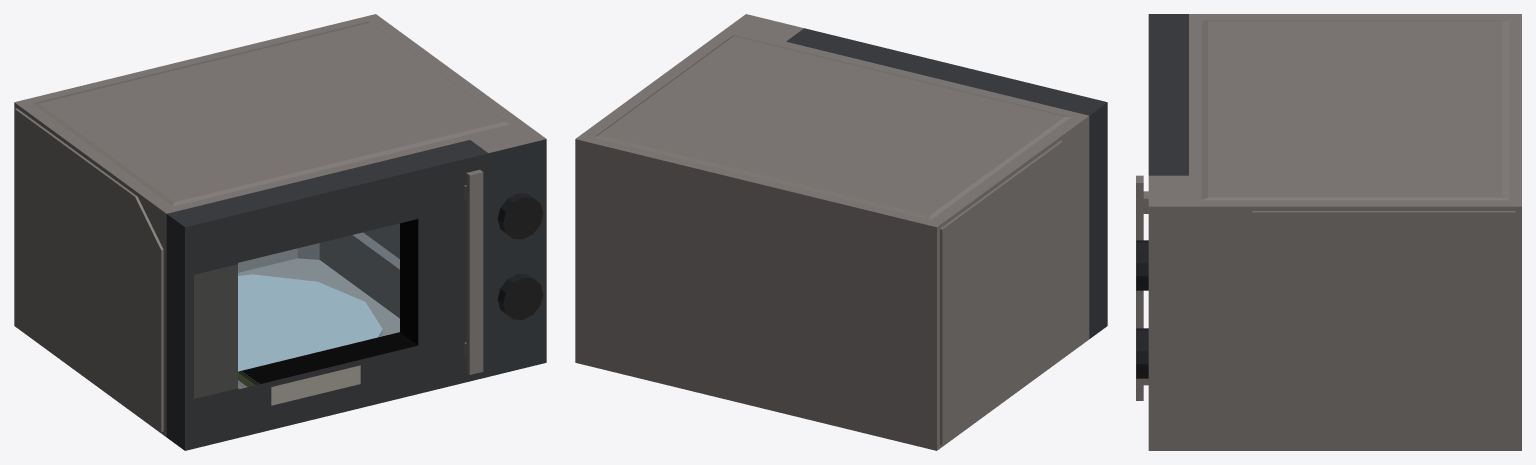
The model's file is modifiedmicrowave.fbx.
The picture shows the model from 3 angles, left to right: view 1: azimuth 30°, elevation 25°; view 2: azimuth 150°, elevation 25°; view 3: azimuth 270°, elevation 25°; orthographic projection. The views are drawn at different scales.
Parts seen in each view (by area): view 1: microwavewitchverticalhandle_01_A, Doorformicrowavewitchverticalhandle_01_A, Plateformicrowavewitchverticalhandle_01_A, Switchformicrowavewitchverticalhandle_01_A, Switchformicrowavewitchverticalhandle_02_A; view 2: microwavewitchverticalhandle_01_A, Doorformicrowavewitchverticalhandle_01_A; view 3: microwavewitchverticalhandle_01_A, Doorformicrowavewitchverticalhandle_01_A, Switchformicrowavewitchverticalhandle_01_A, Switchformicrowavewitchverticalhandle_02_A.
Boxes of the visible parts, x1,y1,x2,y2 form: microwavewitchverticalhandle_01_A: [14, 14, 546, 436]; Doorformicrowavewitchverticalhandle_01_A: [166, 140, 488, 450]; Plateformicrowavewitchverticalhandle_01_A: [238, 274, 382, 371]; Switchformicrowavewitchverticalhandle_01_A: [497, 193, 543, 239]; Switchformicrowavewitchverticalhandle_02_A: [497, 273, 543, 319]; microwavewitchverticalhandle_01_A: [575, 14, 1089, 450]; Doorformicrowavewitchverticalhandle_01_A: [786, 28, 1107, 338]; microwavewitchverticalhandle_01_A: [1148, 14, 1521, 450]; Doorformicrowavewitchverticalhandle_01_A: [1136, 14, 1188, 400]; Switchformicrowavewitchverticalhandle_01_A: [1136, 240, 1148, 290]; Switchformicrowavewitchverticalhandle_02_A: [1136, 328, 1148, 378].
Bounding box in the file's own units: 44.6 × 26.14 × 37.21.
